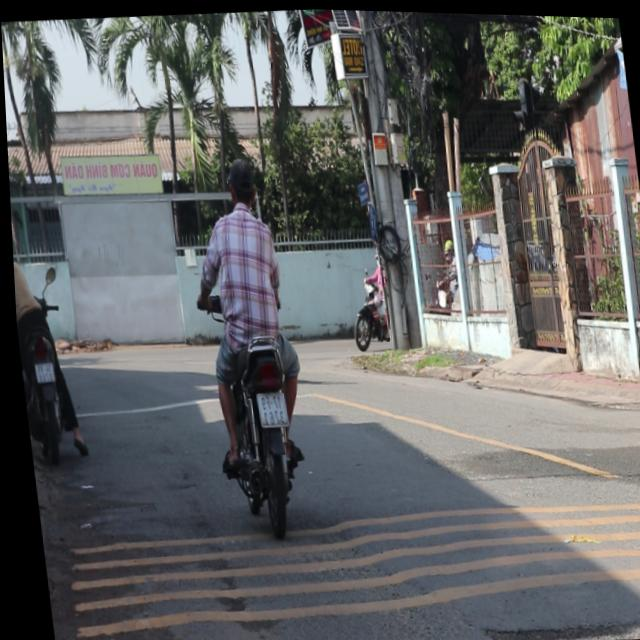licenseplate: (179, 152, 316, 527), (10, 243, 82, 459)
motorcyclist: (223, 154, 259, 212)
nohelmet: (253, 389, 284, 425), (30, 359, 50, 381)
